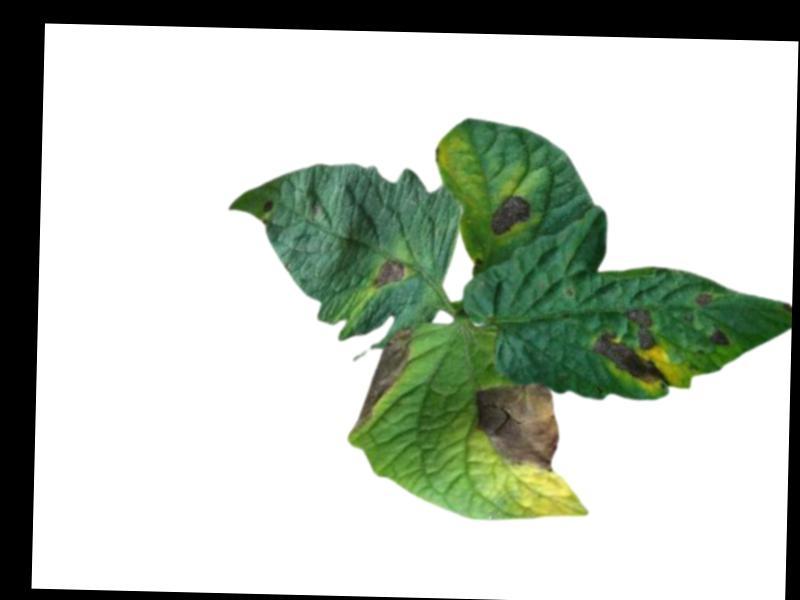Early_blight: (481, 379, 561, 473), (347, 323, 412, 436), (590, 305, 675, 387), (486, 194, 531, 236), (372, 257, 405, 288), (706, 326, 730, 348), (693, 289, 713, 307), (262, 197, 273, 213)
